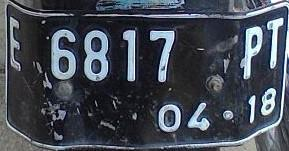clone-license-plate: (4, 1, 286, 142)
